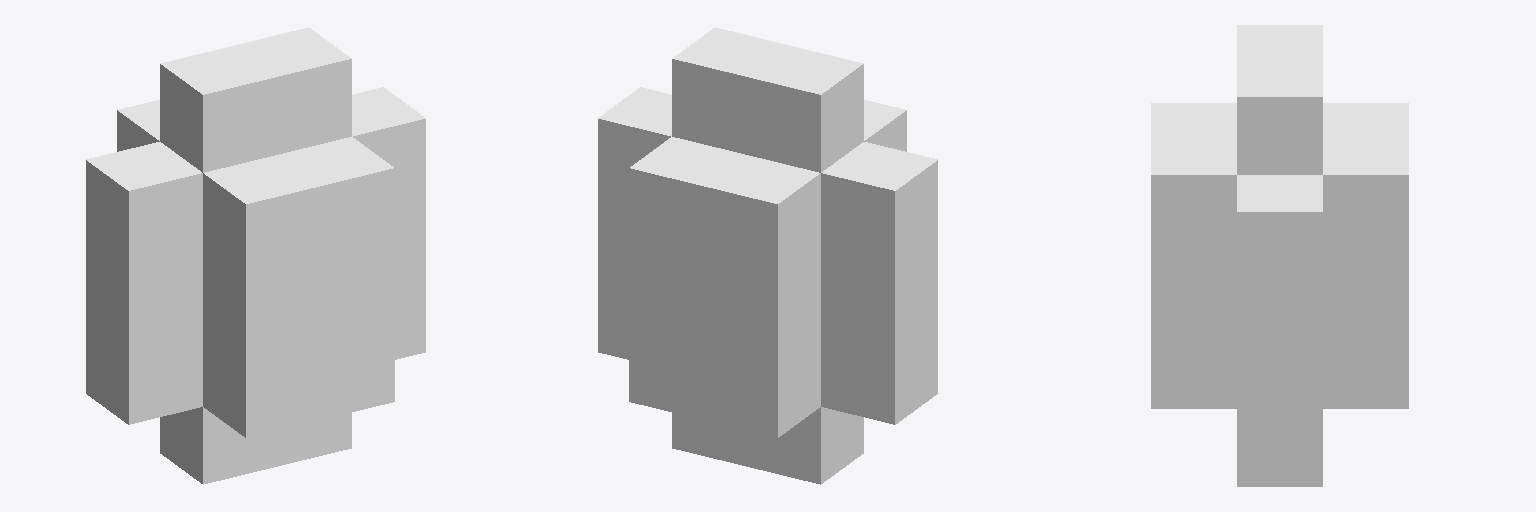
Rendered from token.obj.
3 renders of one model, left to right at view 1: azimuth 30°, elevation 25°; view 2: azimuth 150°, elevation 25°; view 3: azimuth 270°, elevation 25°, orthographic.
Parts seen in each view (by area): view 1: object 1; view 2: object 1; view 3: object 1.
Boxes of the visible parts, box(x1,y1,x2,y2) form: object 1: box(86, 27, 425, 484); object 1: box(598, 27, 937, 484); object 1: box(1151, 25, 1408, 486).
Bounding box in the file's own units: 0.4 × 0.5 × 0.3.